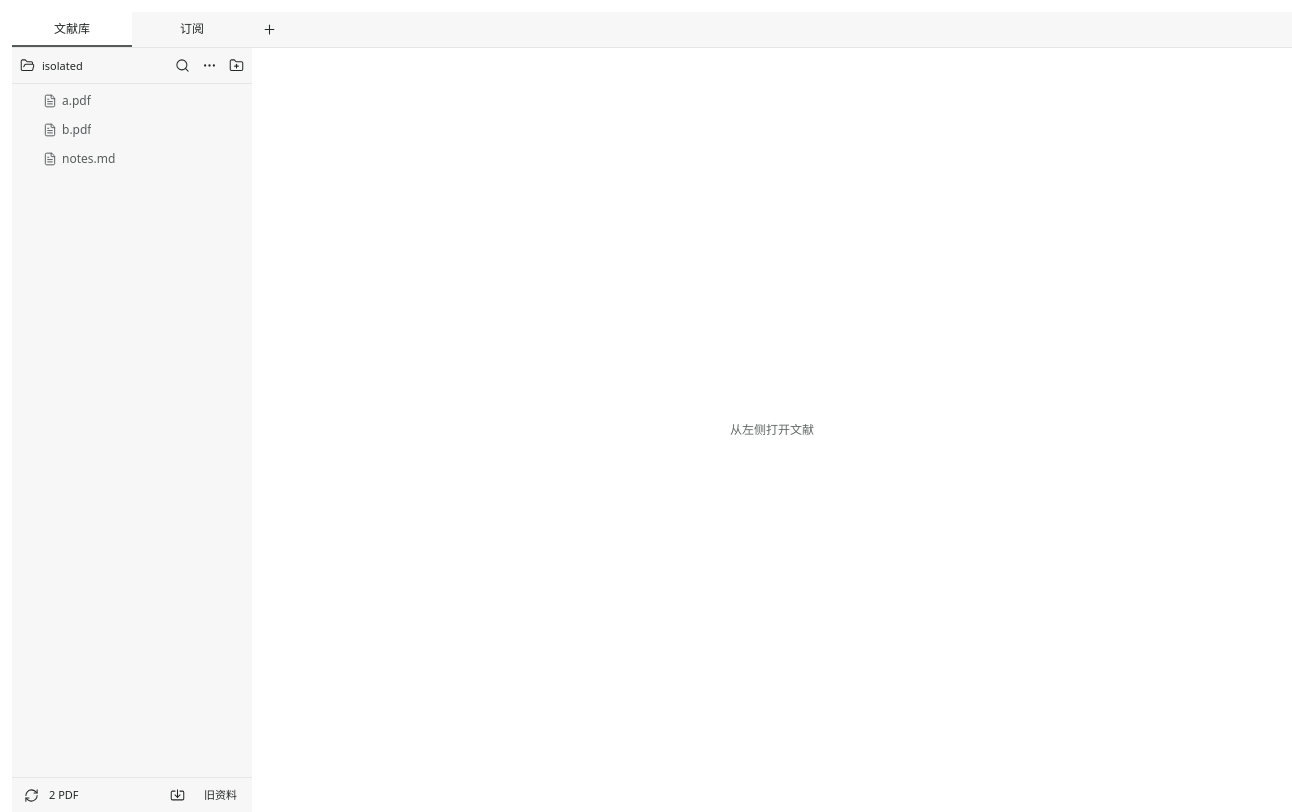
Test: opens a real context menu and shows explicit subscription placeholders without fetching
Right-click the list item "a.pdf".
right_click(132, 101)  # box [16,87,248,115]
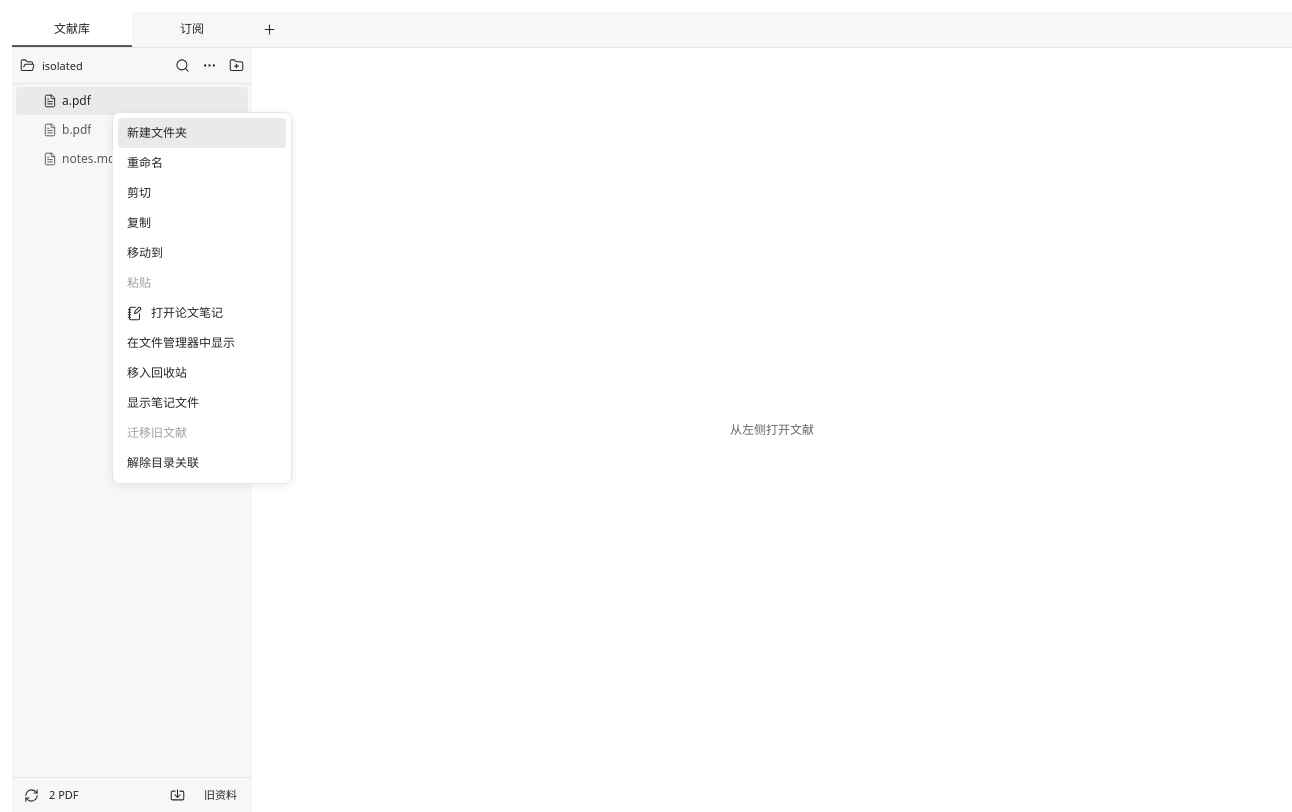
Expected: the menu item "打开论文笔记" is shown, [118,298,286,328]
Click the menu item "复制".
click(202, 223)  # box [118,208,286,238]
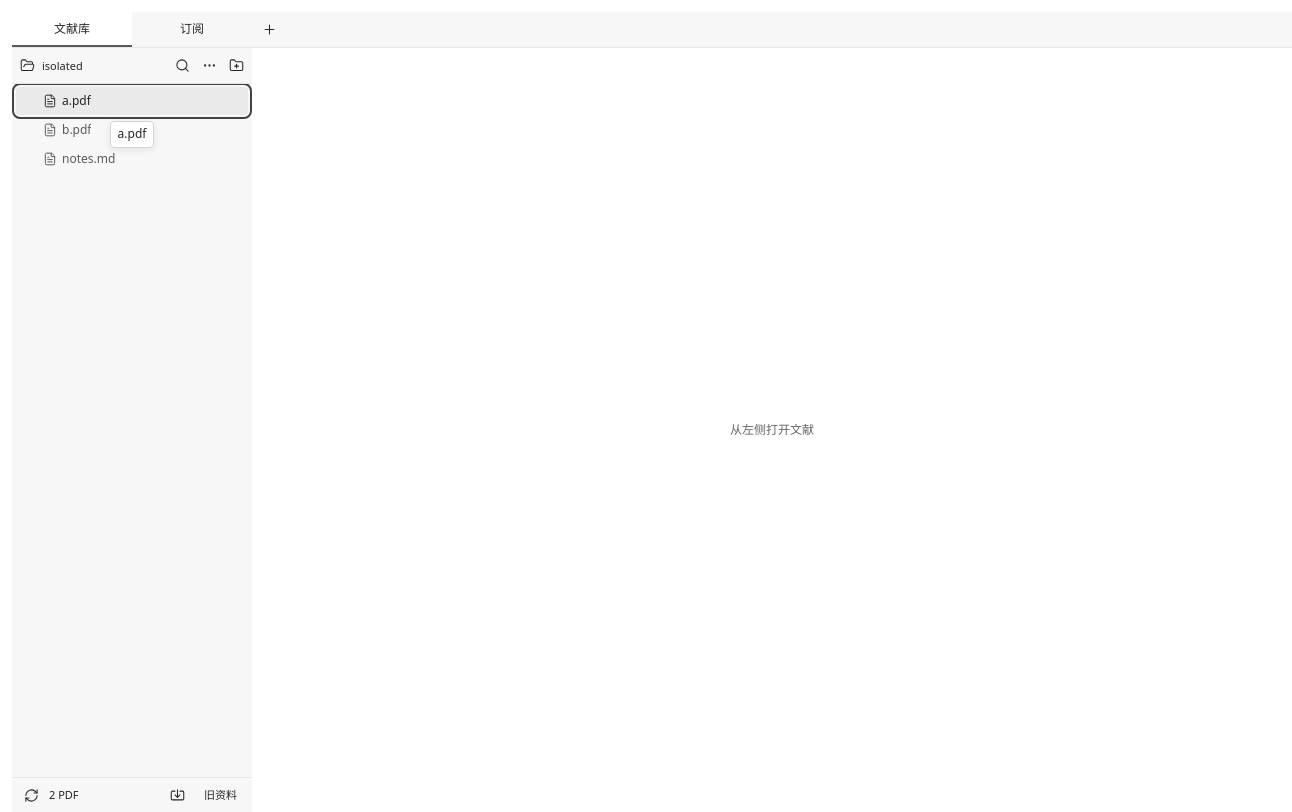
Click the button "订阅".
click(192, 30)  # box [132,12,252,47]
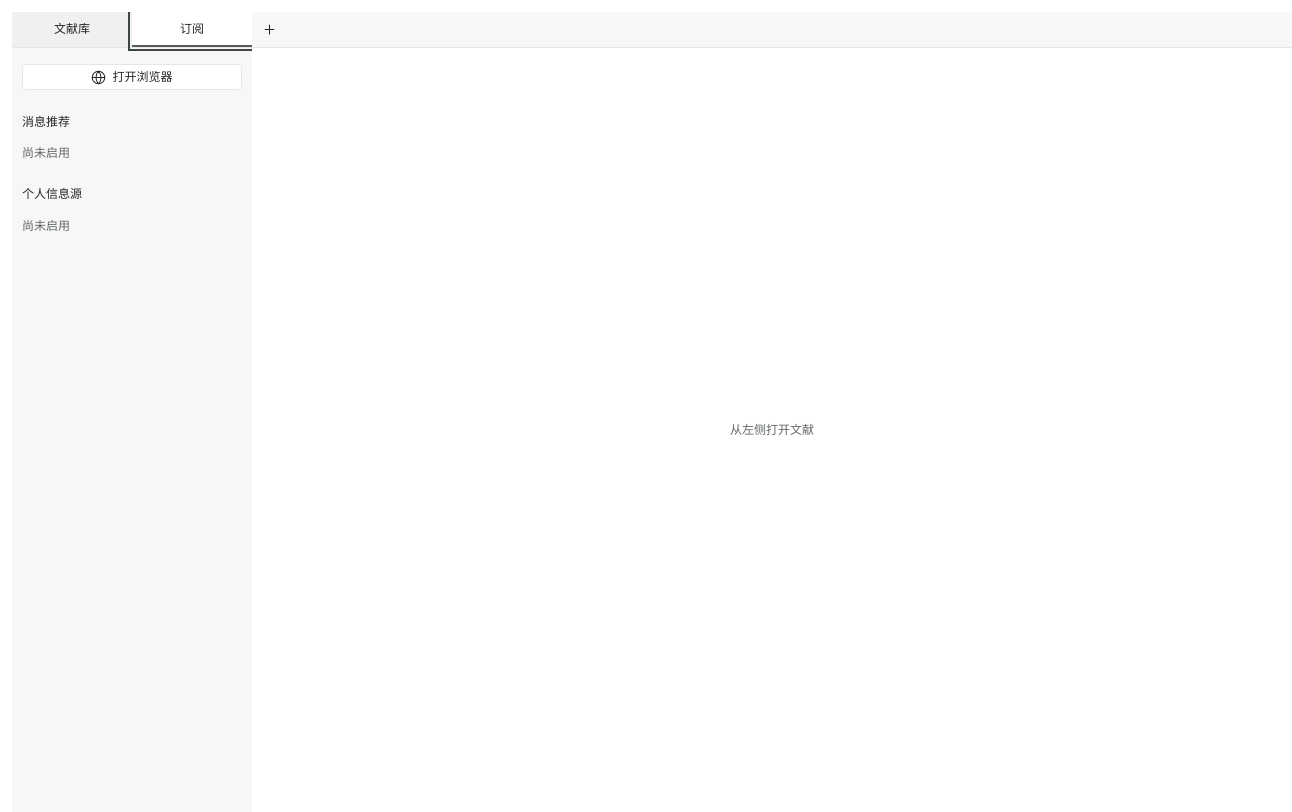
Expected: the text "尚未启用" is shown 2 times, [22,144,70,161]; [22,217,70,234]
Expected: the button "打开浏览器" is shown, [22,64,242,90]
